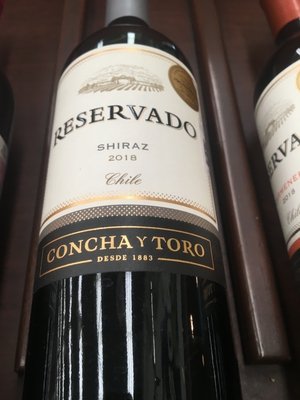reservado shiraz: (35, 18, 233, 388)
